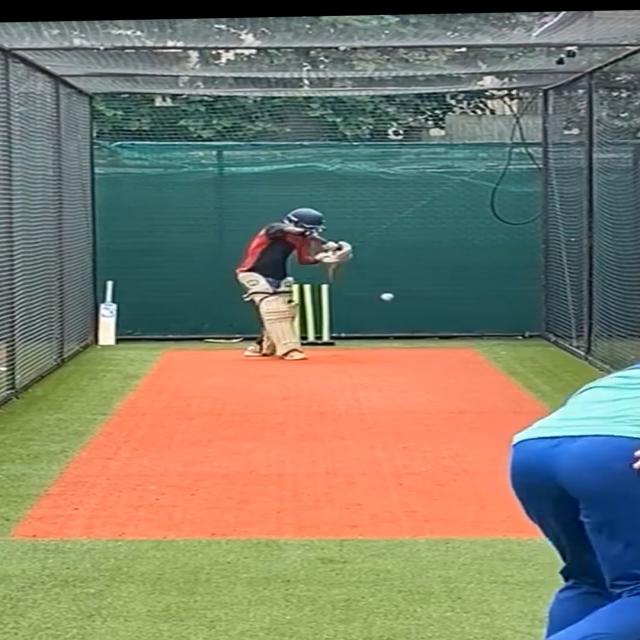ball: (378, 290, 399, 303)
stump: (287, 282, 334, 346)
